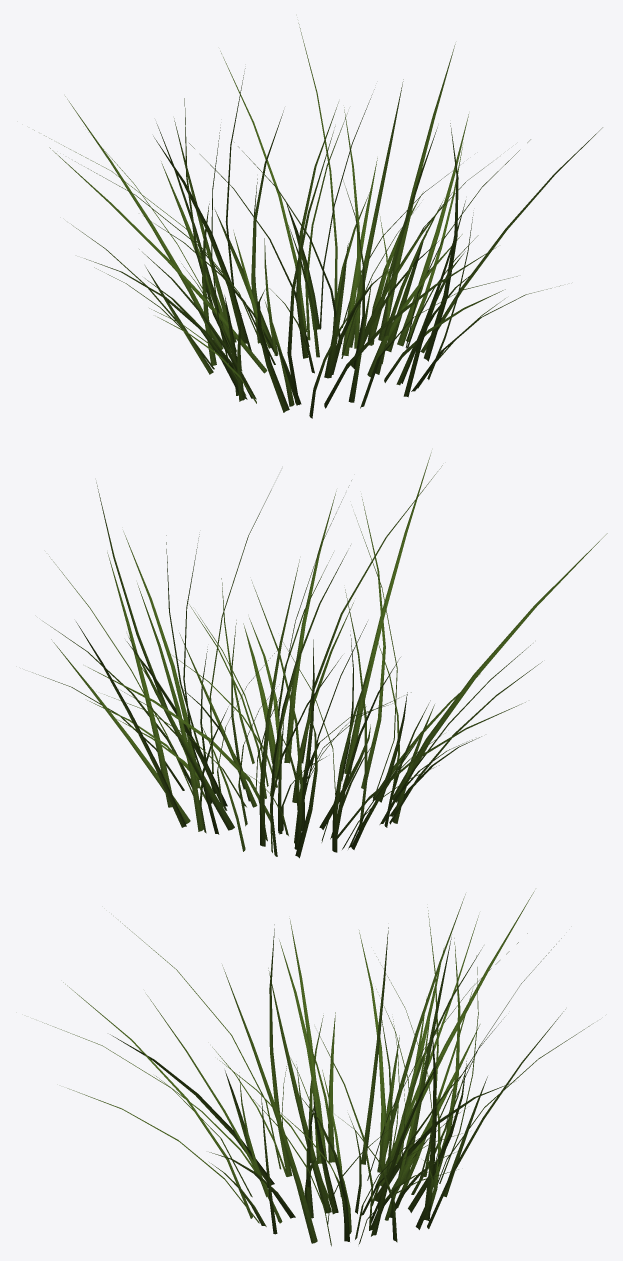
Rendered from grass_meadow_b_lod1.gltf.
The picture shows the model from 3 angles, top to bottom: view 1: azimuth 30°, elevation 25°; view 2: azimuth 150°, elevation 25°; view 3: azimuth 270°, elevation 25°; orthographic projection. The views are drawn at different scales.
Visible parts, largest first — view 1: grass_meadow_b_lod1; view 2: grass_meadow_b_lod1; view 3: grass_meadow_b_lod1.
Boxes of the visible parts, <box> form: grass_meadow_b_lod1: <box>34,23,602,418</box>; grass_meadow_b_lod1: <box>32,452,607,858</box>; grass_meadow_b_lod1: <box>42,891,593,1246</box>.
Size of the model in its own units: 1.37 by 0.7716 by 1.54.
Materials: 1 (1 with a texture image).
